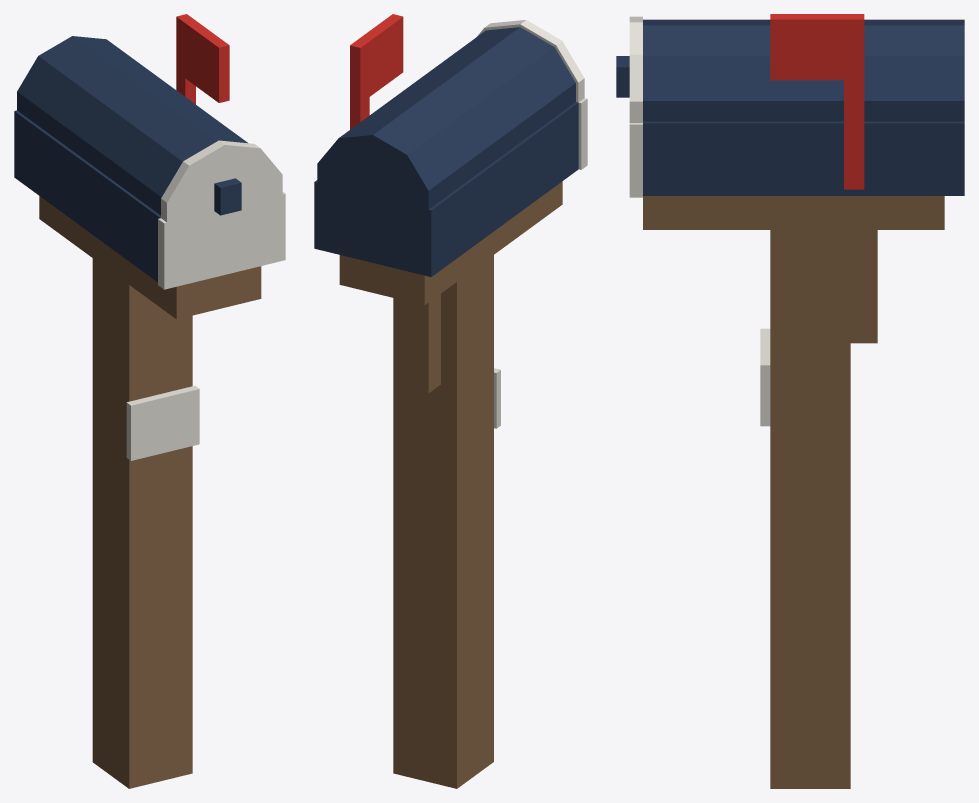
File: prop_mailbox.glb
The picture shows the model from 3 angles, left to right: view 1: azimuth 30°, elevation 25°; view 2: azimuth 150°, elevation 25°; view 3: azimuth 270°, elevation 25°; orthographic projection. The views are drawn at different scales.
Parts seen in each view (by area): view 1: prop_mailbox; view 2: prop_mailbox; view 3: prop_mailbox.
Part boxes in pixels (x1=…): prop_mailbox: x1=14, y1=14, x2=285, y2=788; prop_mailbox: x1=314, y1=14, x2=587, y2=788; prop_mailbox: x1=616, y1=14, x2=964, y2=788.
Bounding box in the file's own units: 0.245 × 1.3 × 0.52.
